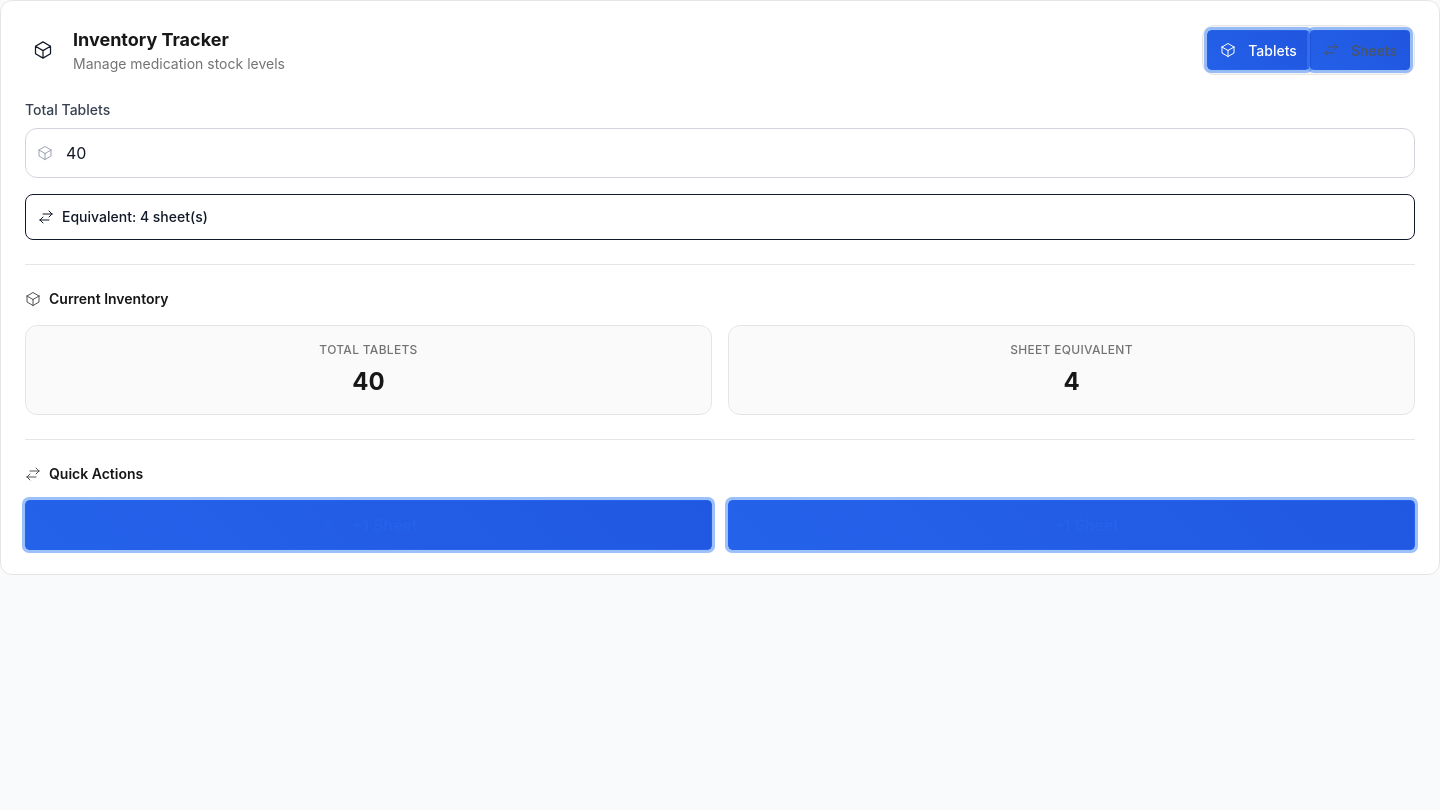
Test case: InventoryTracker › handles quick action buttons
expect the number field labelled "Total Tablets" holds "40": met, box [25,128,1415,178]
# Click +1 Sheet button
Click the button "+1 Sheet": (368, 525) [25,500,712,550]
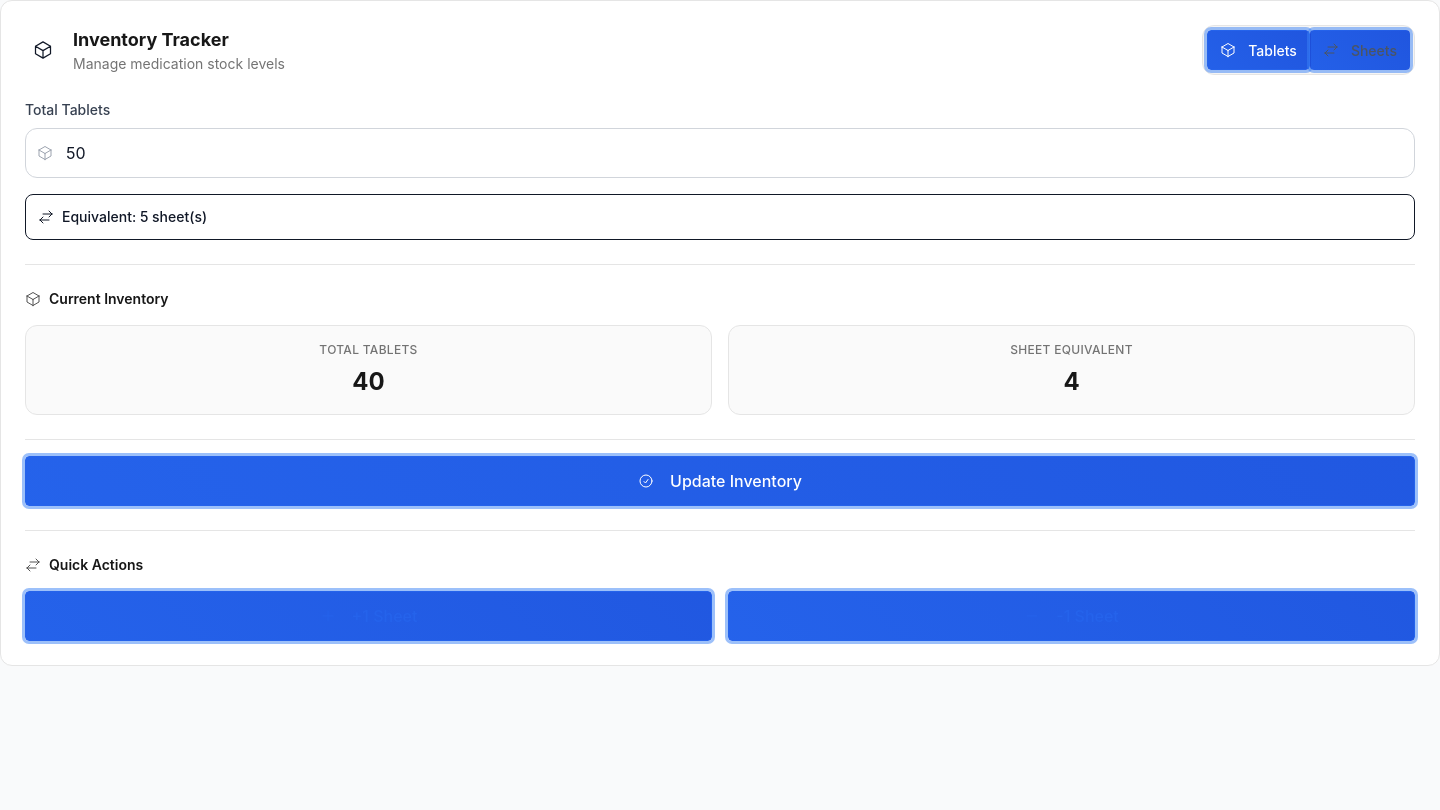
expect the number field labelled "Total Tablets" holds "50": met, box [25,128,1415,178]
# Click -1 Sheet button
Click the button "-1 Sheet": (1072, 616) [728,591,1415,641]
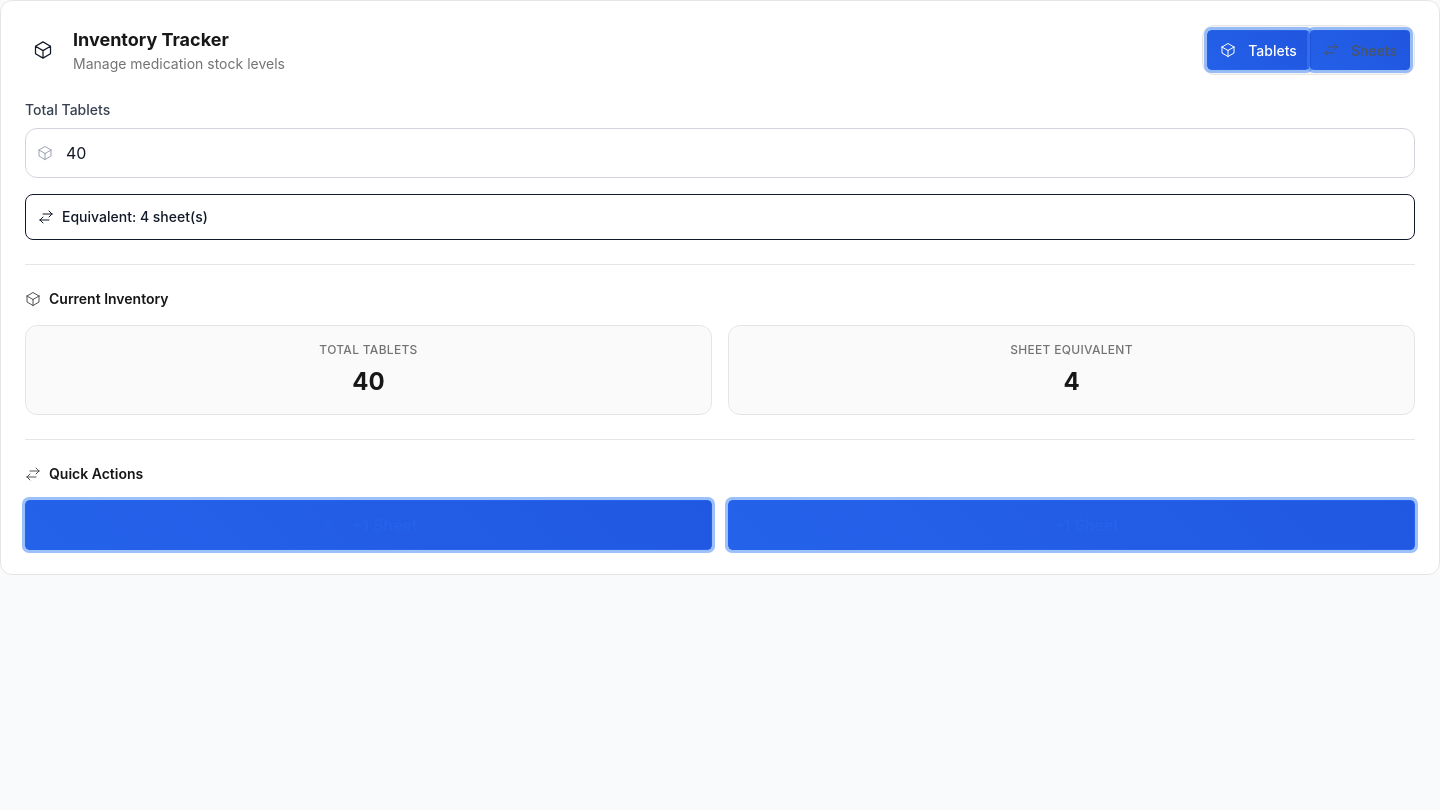
expect the number field labelled "Total Tablets" holds "40": met, box [25,128,1415,178]
